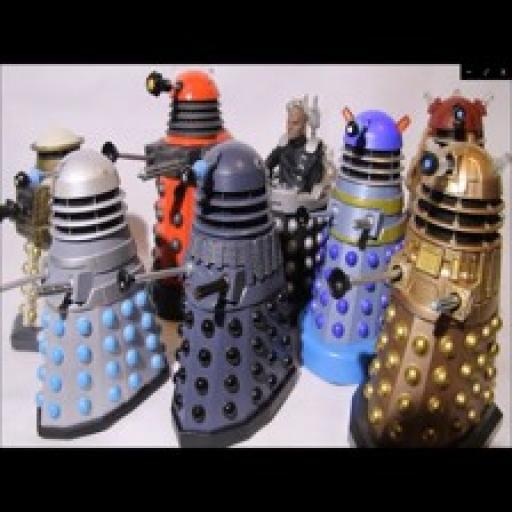dalek: (320, 144, 512, 456), (110, 143, 298, 449), (0, 148, 168, 429), (4, 133, 145, 351), (306, 97, 407, 389), (134, 70, 241, 324), (422, 91, 492, 136)
